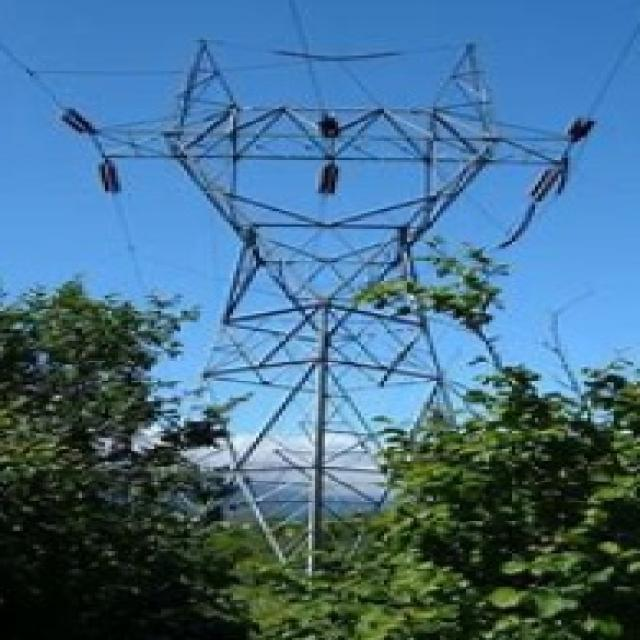utility poles: (355, 243, 581, 478), (90, 286, 292, 504)
